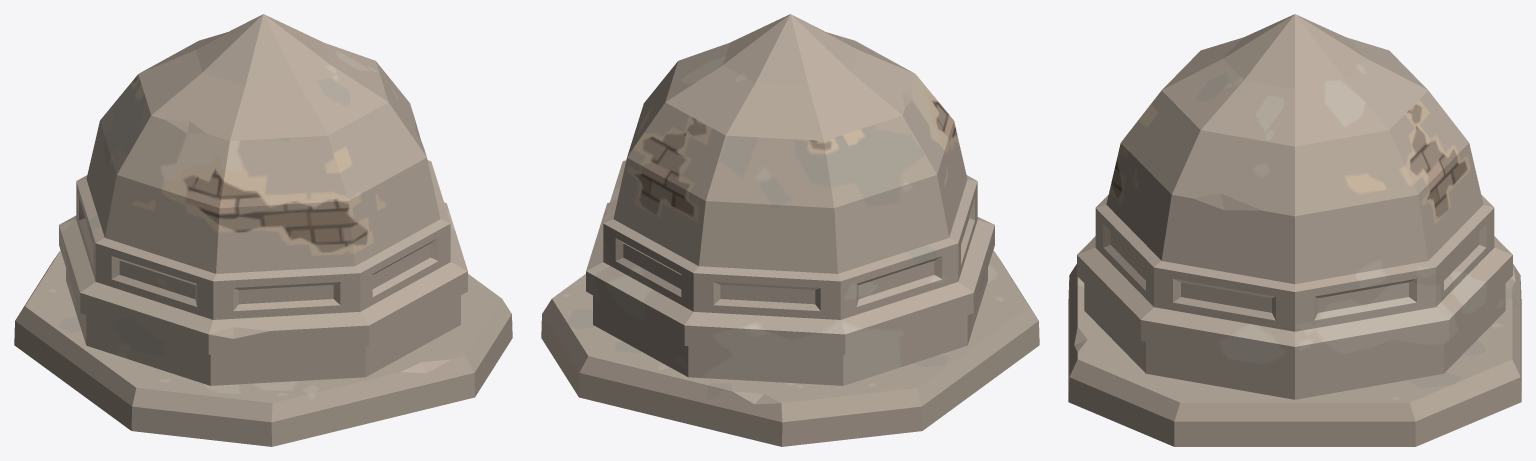
The model's file is SM_Bld_Village_Dome_01.glb.
The picture shows the model from 3 angles, left to right: view 1: azimuth 30°, elevation 25°; view 2: azimuth 150°, elevation 25°; view 3: azimuth 270°, elevation 25°; orthographic projection. The views are drawn at different scales.
Visible parts, largest first — view 1: SM_Bld_Village_Dome_01; view 2: SM_Bld_Village_Dome_01; view 3: SM_Bld_Village_Dome_01.
Boxes of the visible parts, x1,y1,x2,y2 form: SM_Bld_Village_Dome_01: (14, 14, 512, 446); SM_Bld_Village_Dome_01: (541, 14, 1039, 446); SM_Bld_Village_Dome_01: (1068, 14, 1521, 446).
Bounding box in the file's own units: 3.54 × 2.91 × 3.54.
1 material, 1 textured.
